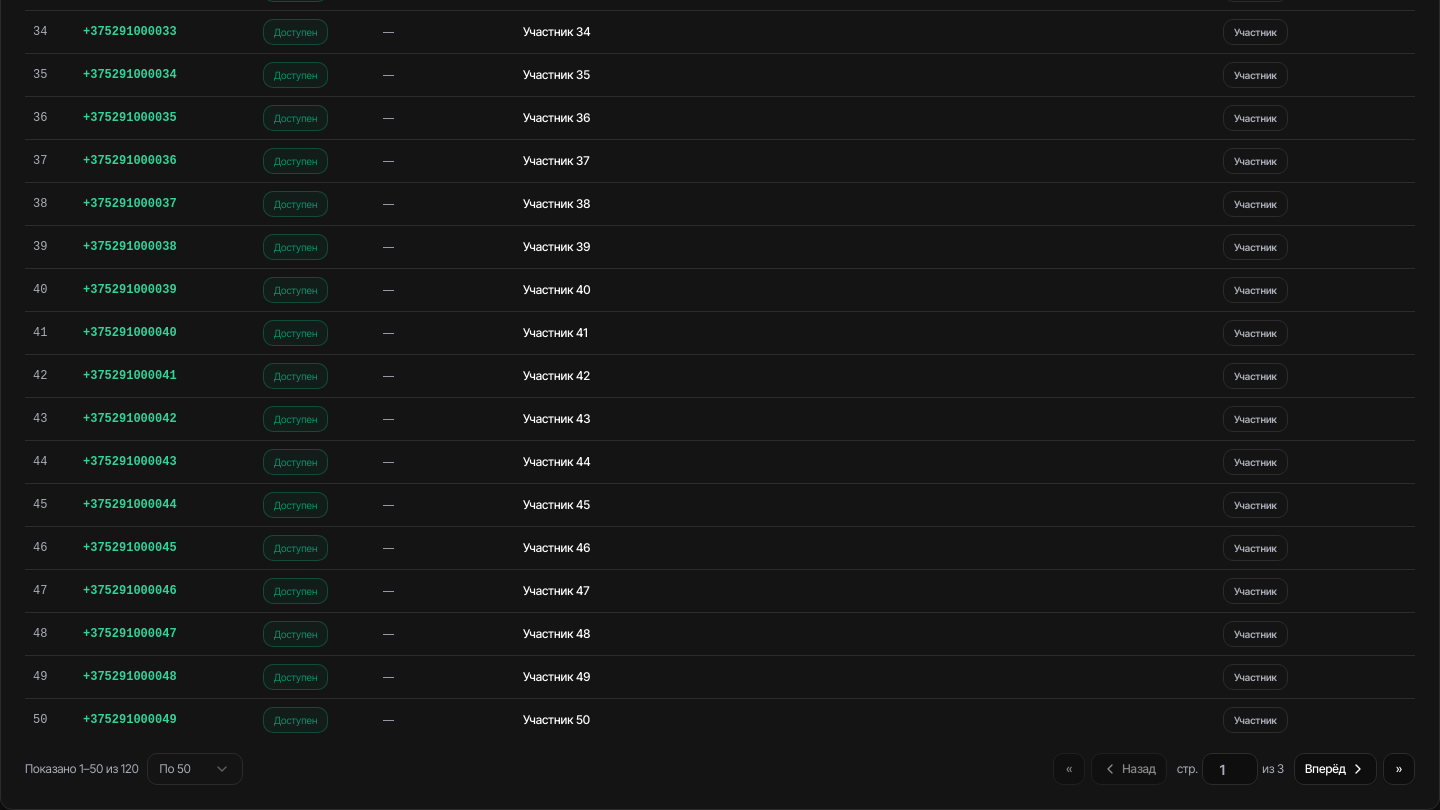
Test: пагинация участников › ввод номера страницы в поле переходит на указанную страницу
(page scrolled)
Replace the text in the number field named "Номер страницы" with "3" at {"x": 1230, "y": 769}, box [1202, 753, 1258, 785]
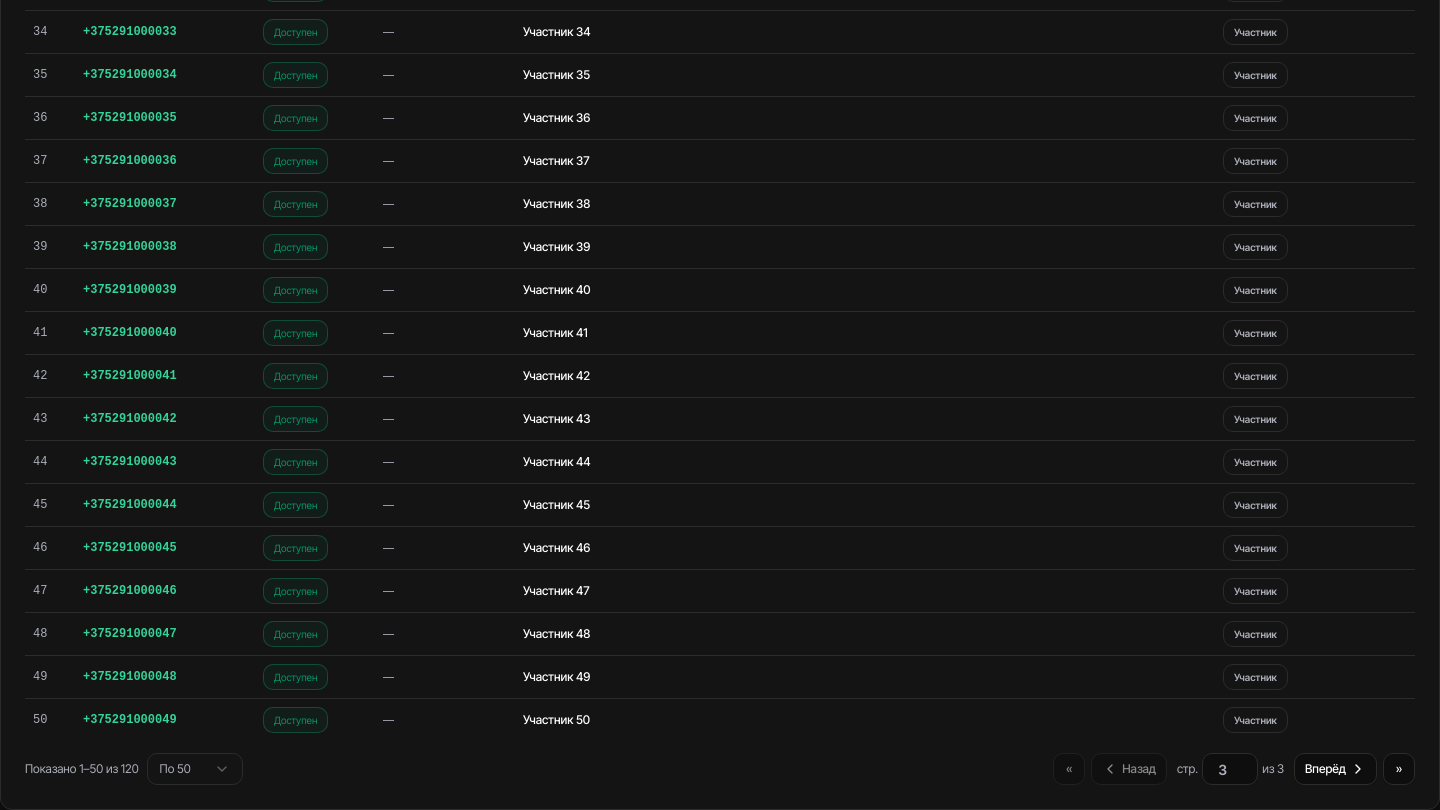
Press Enter in the number field named "Номер страницы", box [1202, 753, 1258, 785]
(page scrolled)
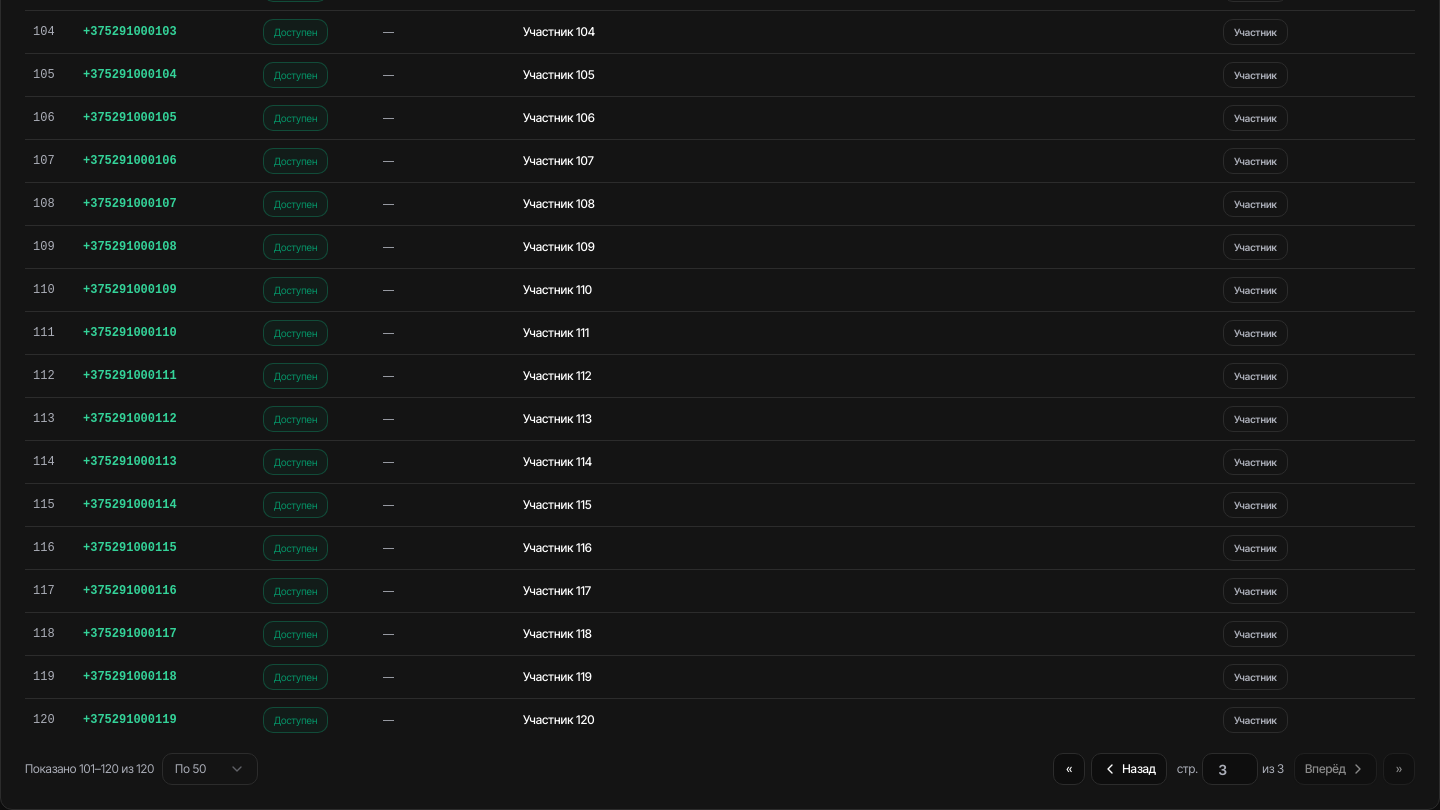
Expected: the text "Показано 101–120 из 120" is shown, [25, 761, 154, 777]
